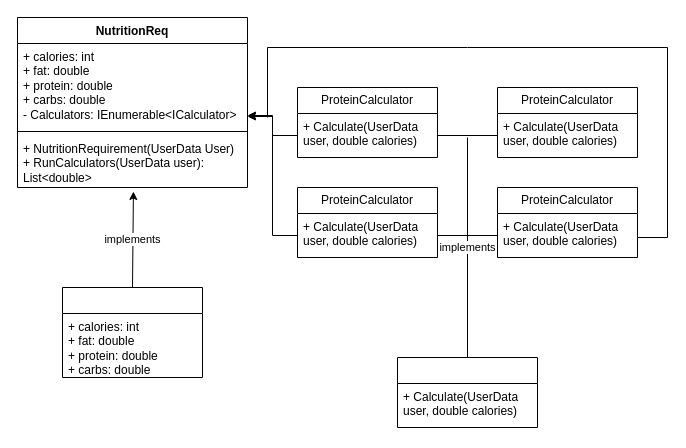
Some shapes in this 686 by 448 pixel diagram are drawn without their labels. Here are the shapes that lost their labels. From the top down, the box of each, then its label:
(62, 286, 202, 378): INutritionFacts
(396, 356, 538, 428): ICalculator
